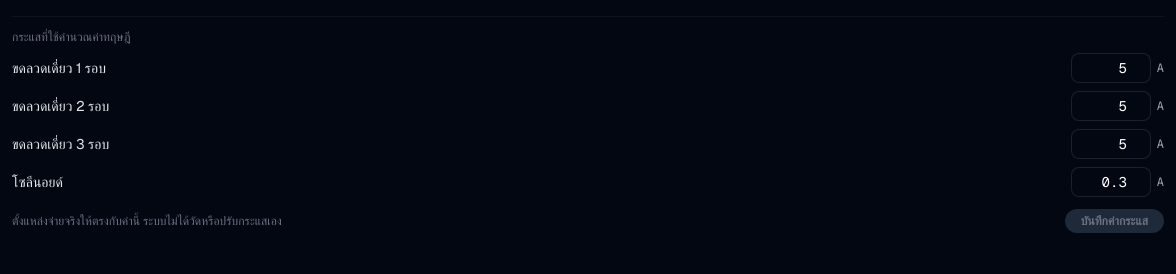
CurrentSettings › keeps what was typed and gives the server's reason when saving is refused
Replace the text in the number field labelled "โซลีนอยด์" with "0.45" at (1111, 182), box [1071,167,1151,197]
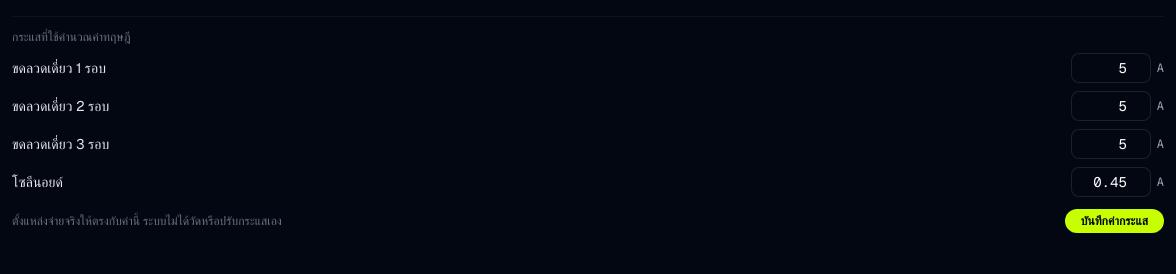
Click the button "บันทึกค่ากระแส" at (1114, 221), box [1065,209,1164,233]
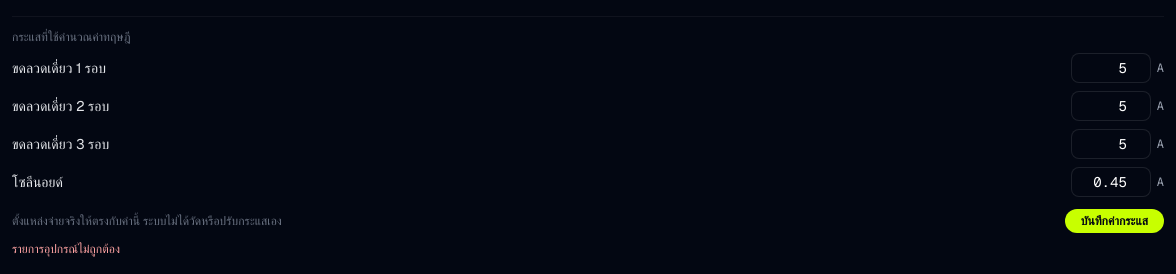
Now the message reads "รายการอุปกรณ์ไม่ถูกต้อง", box [12,241,120,257]
